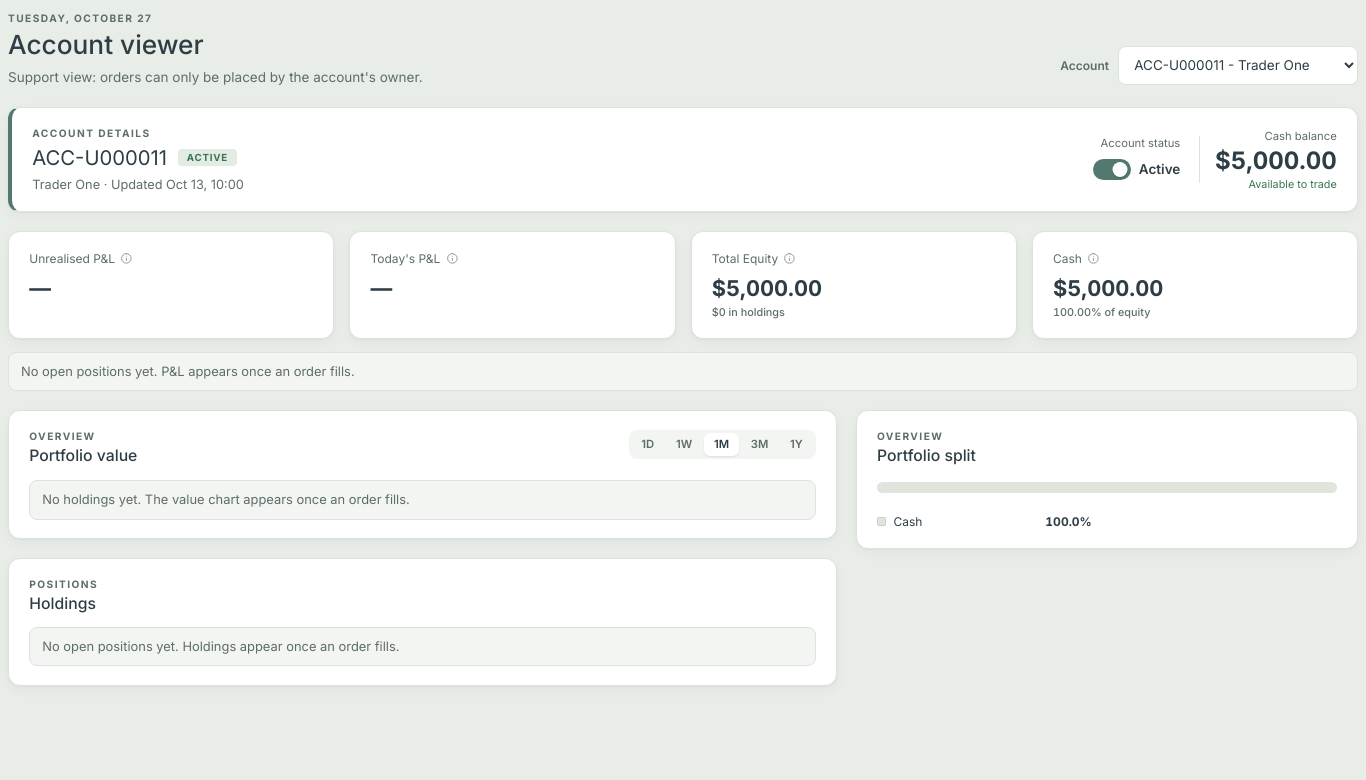
Scenario: PortfolioComponent › for support › switches to the chosen account
The image size is (1366, 780).
Select "ACC-U000012 - Trader Two" in the dropdown with id "support-account" at (1238, 65), box [1118,46,1358,84]
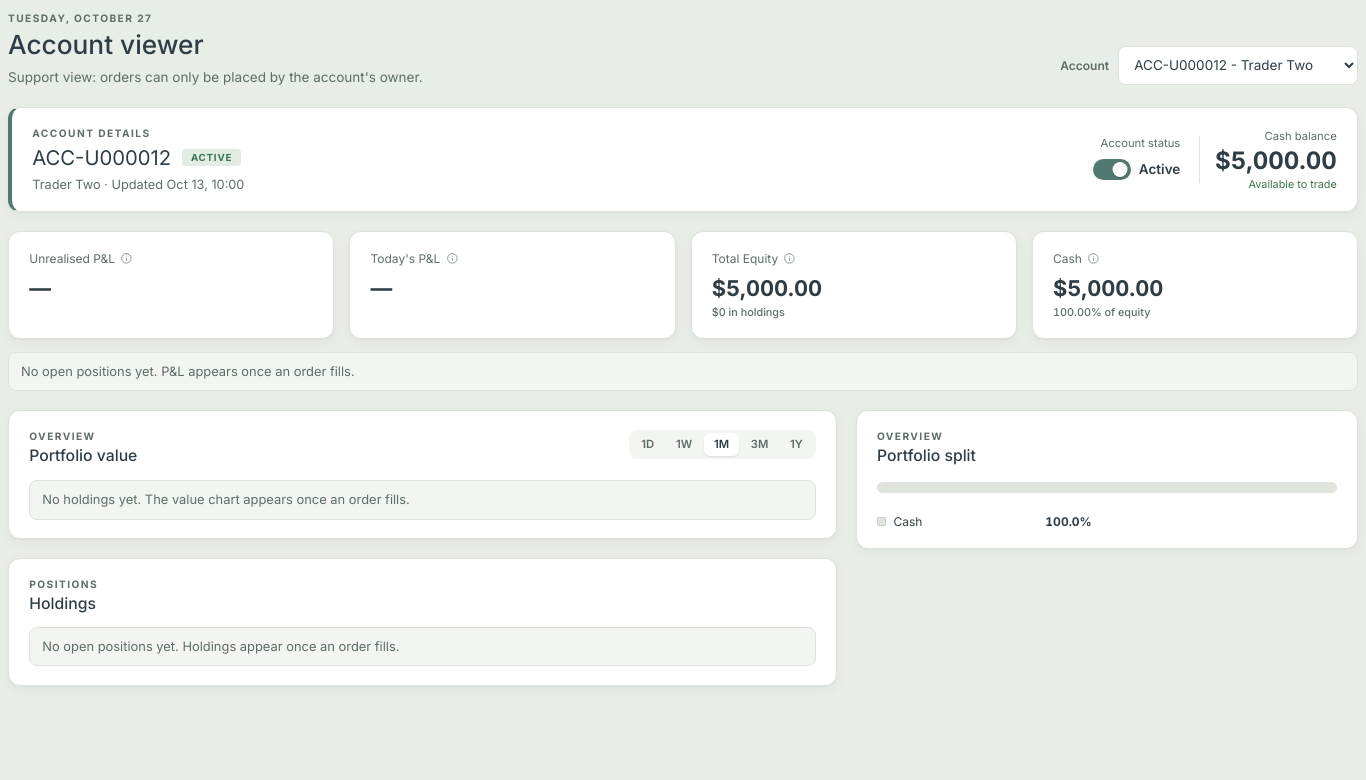
Now the element with class "account-number" shows "ACC-U000012", box [32,145,171,170]
